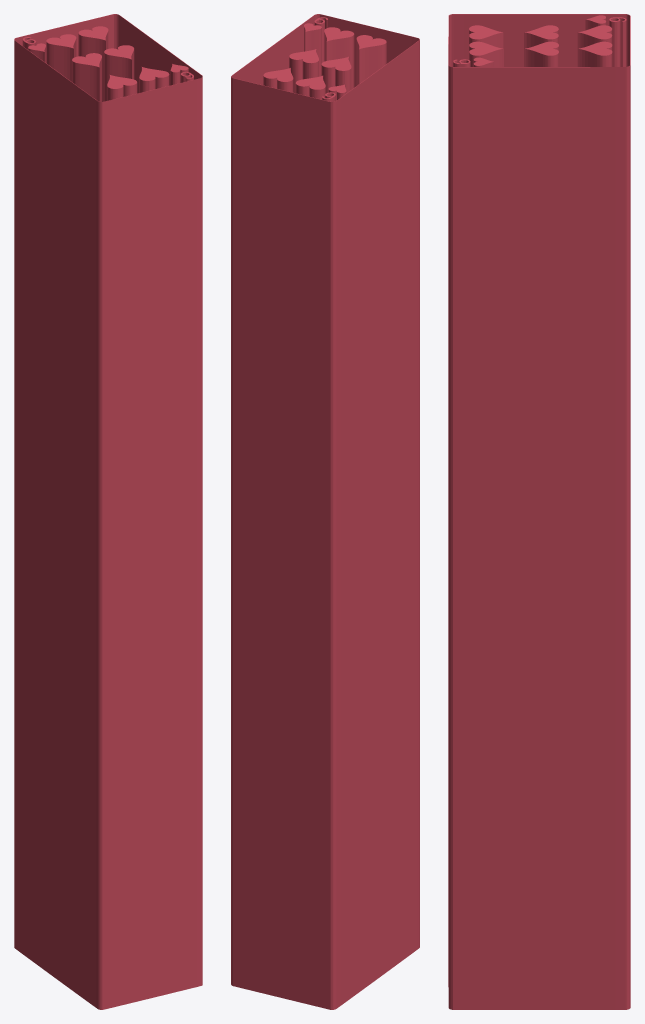
Rendered from 6_hearts.glb.
3 views of the same model, side by side, from view 1: azimuth 30°, elevation 25°; view 2: azimuth 150°, elevation 25°; view 3: azimuth 270°, elevation 25° (orthographic). The views are drawn at different scales.
Visible parts, largest first — view 1: Mesh_Mesh_head_geo.001_lambert2SG.001; view 2: Mesh_Mesh_head_geo.001_lambert2SG.001; view 3: Mesh_Mesh_head_geo.001_lambert2SG.001.
Part boxes in pixels (bbox=[...]): Mesh_Mesh_head_geo.001_lambert2SG.001: bbox=[14, 14, 202, 1009]; Mesh_Mesh_head_geo.001_lambert2SG.001: bbox=[231, 14, 419, 1009]; Mesh_Mesh_head_geo.001_lambert2SG.001: bbox=[448, 14, 630, 1009].
Size of the model in its own units: 1.21 by 10 by 1.75.
